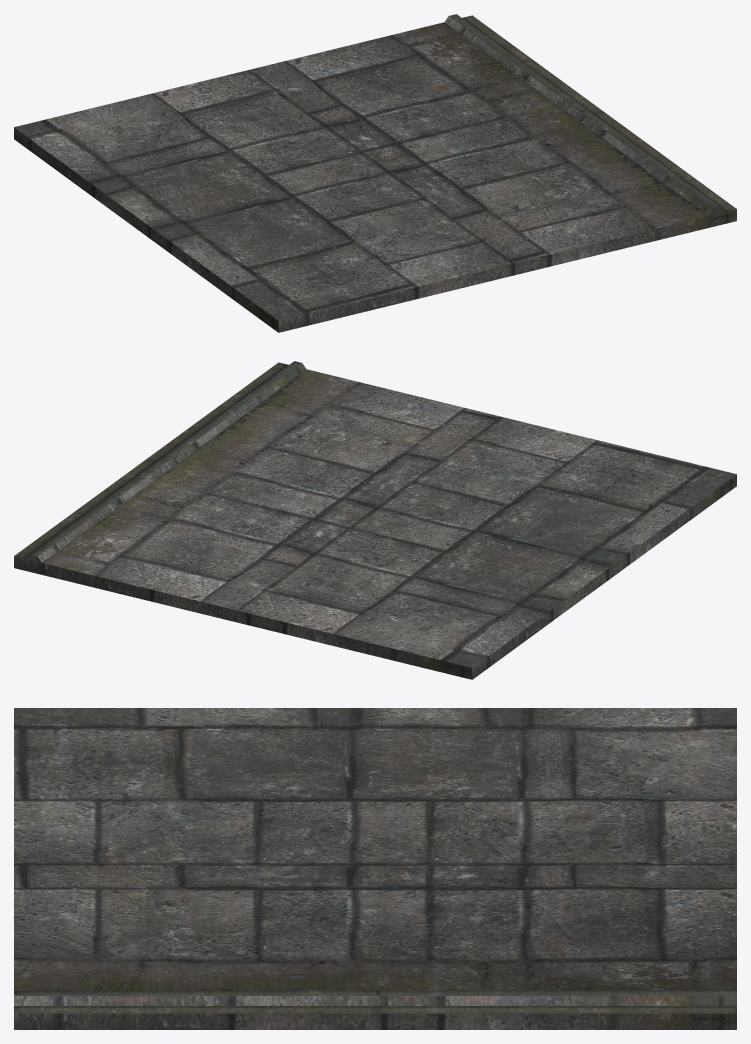
File: floor1transr.fbx
The picture shows the model from 3 angles, top to bottom: view 1: azimuth 30°, elevation 25°; view 2: azimuth 150°, elevation 25°; view 3: azimuth 270°, elevation 25°; orthographic projection. The views are drawn at different scales.
Visible parts, largest first — view 1: Mesh Object; view 2: Mesh Object; view 3: Mesh Object.
Boxes of the visible parts, bbox=[...] form: Mesh Object: bbox=[14, 14, 736, 332]; Mesh Object: bbox=[14, 361, 736, 679]; Mesh Object: bbox=[14, 708, 736, 1029].
Bounding box in the file's own units: 4 × 0.1433 × 4.
